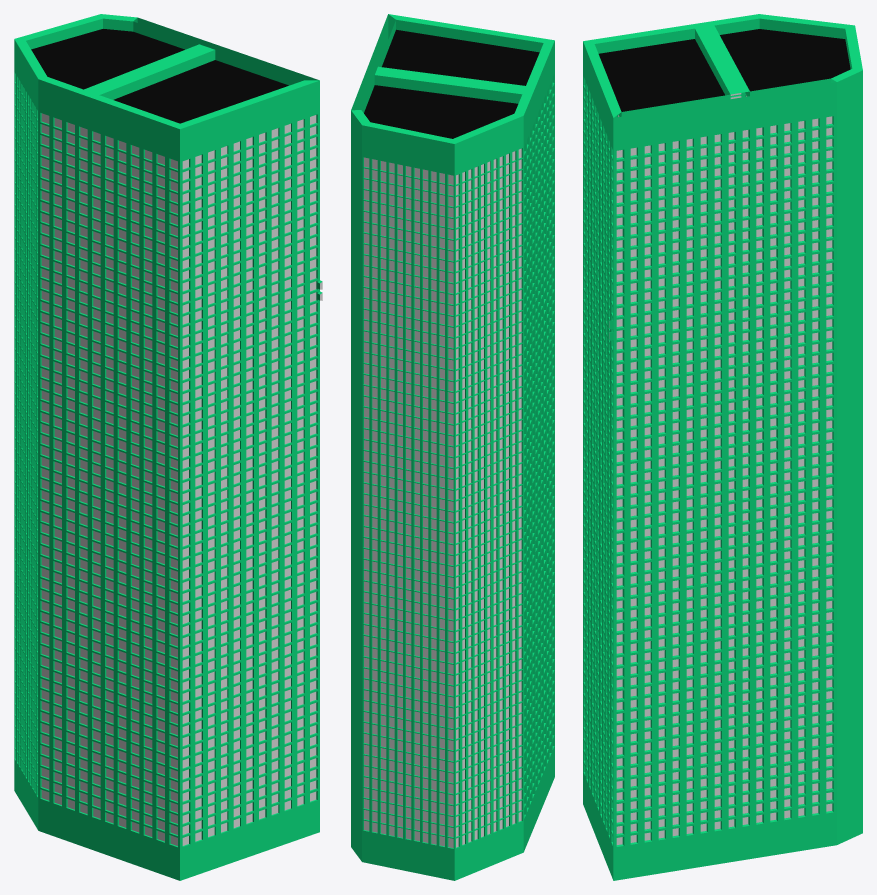
The model's file is OneNewcastleRoad.fbx.
3 views of the same model, side by side, from view 1: azimuth 30°, elevation 25°; view 2: azimuth 150°, elevation 25°; view 3: azimuth 270°, elevation 25° (orthographic). The views are drawn at different scales.
Visible parts, largest first — view 1: OneNewcastleRoad; view 2: OneNewcastleRoad; view 3: OneNewcastleRoad.
Boxes of the visible parts, <box> form: OneNewcastleRoad: <box>14,14,322,880</box>; OneNewcastleRoad: <box>351,14,554,880</box>; OneNewcastleRoad: <box>583,14,862,880</box>.
Bounding box in the file's own units: 5571 × 19000 × 6319.
